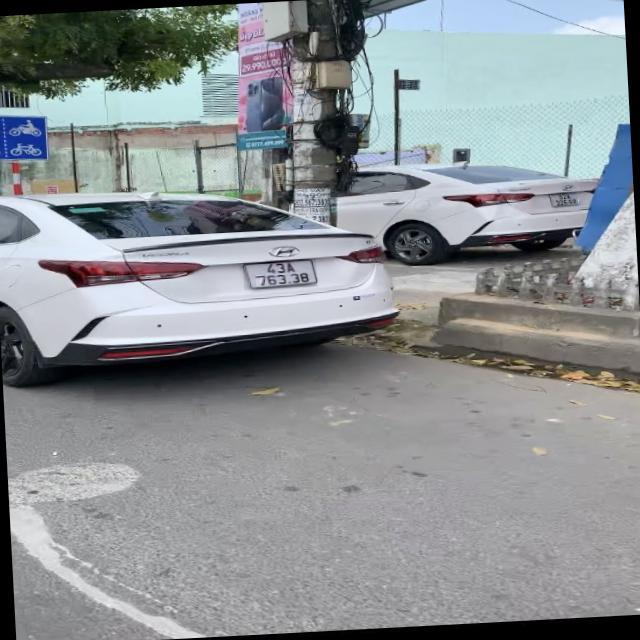car: (0, 188, 395, 379), (269, 159, 608, 269)
plate: (239, 250, 323, 296), (545, 187, 582, 210)
